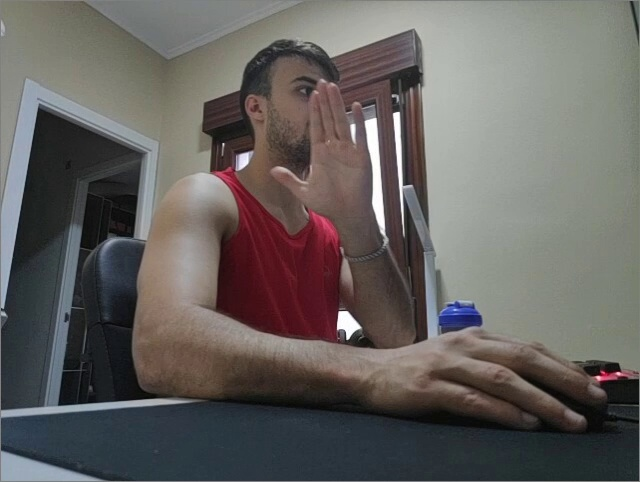Palm: (270, 78, 365, 234)
